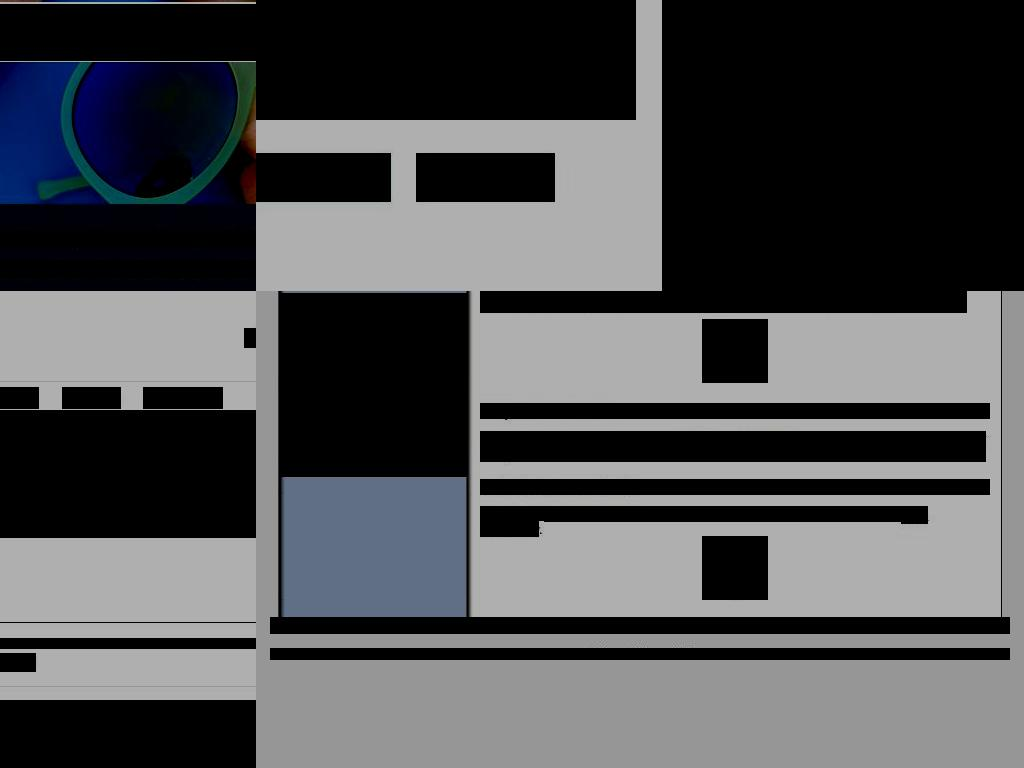button: (416, 153, 555, 202), (256, 153, 391, 202), (280, 293, 467, 311), (280, 310, 467, 328), (280, 327, 467, 345), (280, 344, 467, 362), (280, 361, 467, 379), (280, 378, 467, 396), (280, 395, 467, 413), (280, 412, 467, 430), (280, 429, 467, 447), (280, 446, 467, 462), (280, 461, 467, 477), (143, 387, 223, 409), (62, 387, 121, 409), (0, 387, 39, 409), (0, 653, 36, 672), (244, 328, 256, 348)
field: (0, 4, 256, 61)
heading: (256, 0, 636, 120), (480, 291, 967, 313), (480, 403, 990, 419), (480, 479, 990, 495), (0, 230, 256, 248), (0, 260, 256, 278), (0, 638, 256, 649), (0, 653, 36, 672)
image: (662, 0, 1024, 291), (270, 617, 1010, 634), (702, 319, 768, 383), (702, 536, 768, 600)
link: (747, 431, 786, 447), (684, 431, 720, 447), (901, 506, 928, 524)
text: (0, 410, 256, 538), (480, 431, 986, 462), (270, 648, 1010, 660), (480, 506, 810, 522), (480, 431, 684, 447), (810, 506, 903, 522), (480, 521, 539, 537), (719, 431, 749, 447), (539, 521, 544, 537)
